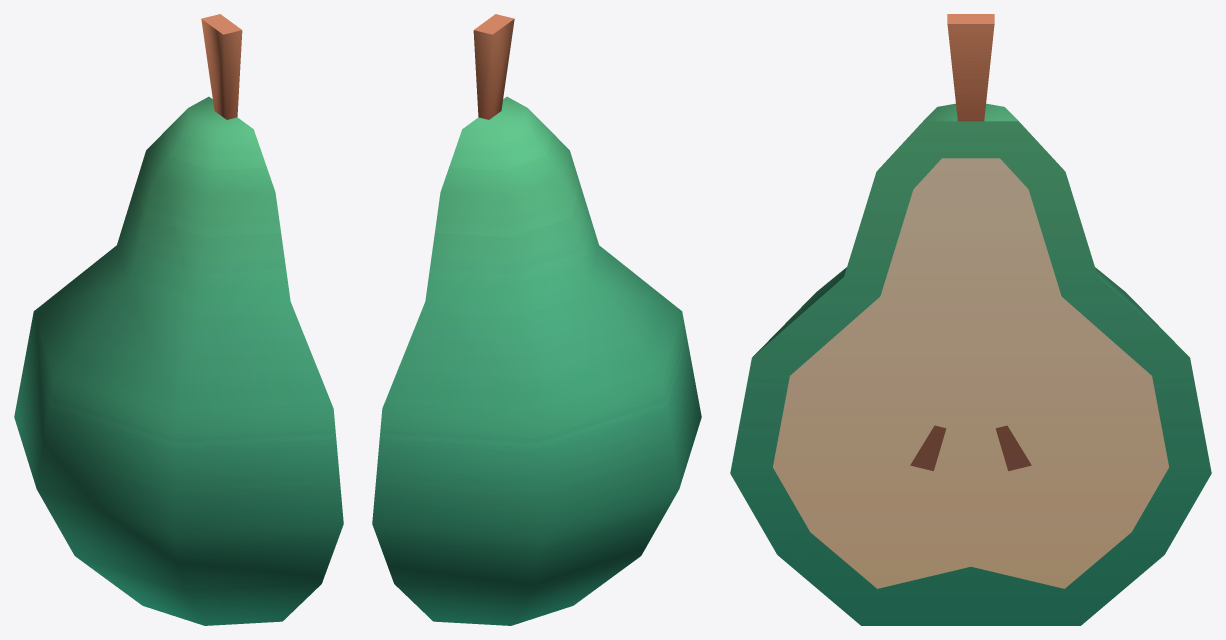
The model's file is pearhalf.glb.
3 views of the same model, side by side, from view 1: azimuth 30°, elevation 25°; view 2: azimuth 150°, elevation 25°; view 3: azimuth 270°, elevation 25° (orthographic). The views are drawn at different scales.
Visible parts, largest first — view 1: pear-half; view 2: pear-half; view 3: pear-half.
Part boxes in pixels (box(x1,y1,x2,y2)): pear-half: box(14, 14, 343, 625); pear-half: box(372, 14, 701, 625); pear-half: box(730, 14, 1211, 625).
Size of the model in its own units: 0.0399 by 0.11 by 0.0798.
Materials: 1 (1 with a texture image).
